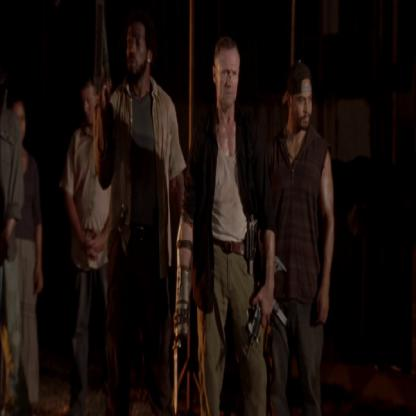Guns: (244, 244, 288, 356)
